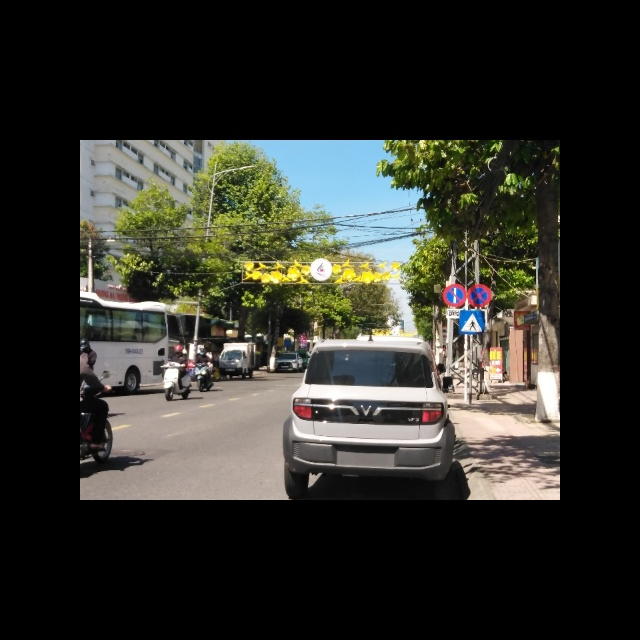Cấm dừng xe và đỗ xe: (468, 284, 492, 307)
Cấm đỗ xe ngày lẻ: (442, 283, 466, 307)
Đường dành cho người đi bộ: (459, 311, 486, 337)
